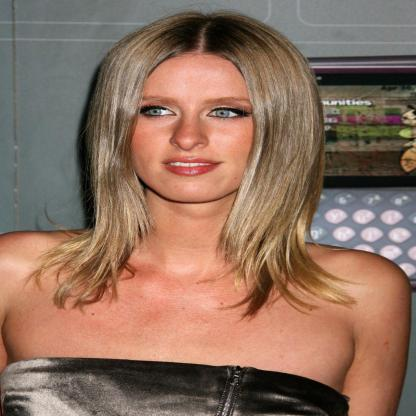long-hair: (73, 204, 328, 254)
